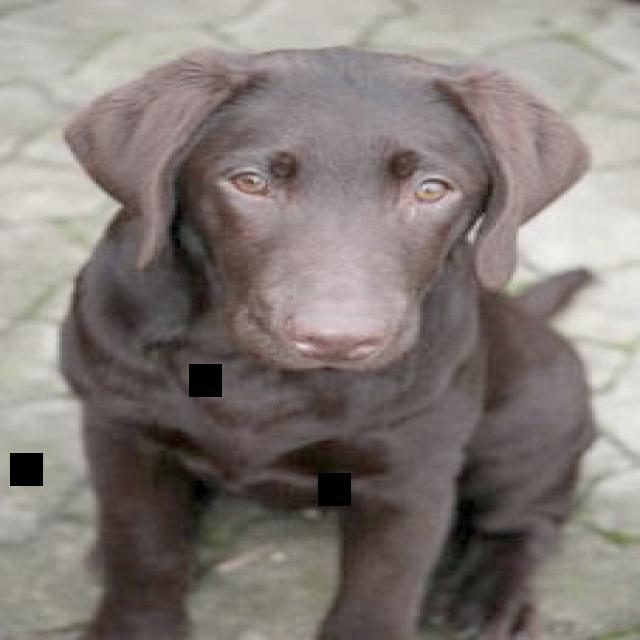puppy-dog: (56, 45, 601, 640)
